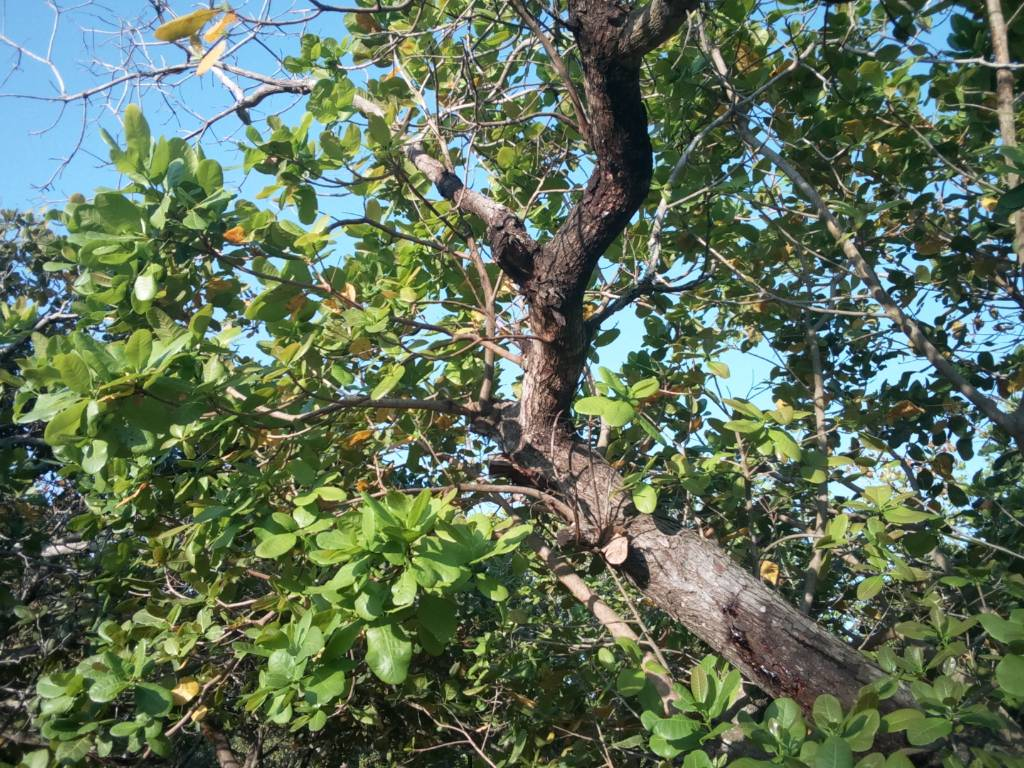Gommose: (720, 597, 849, 706)
